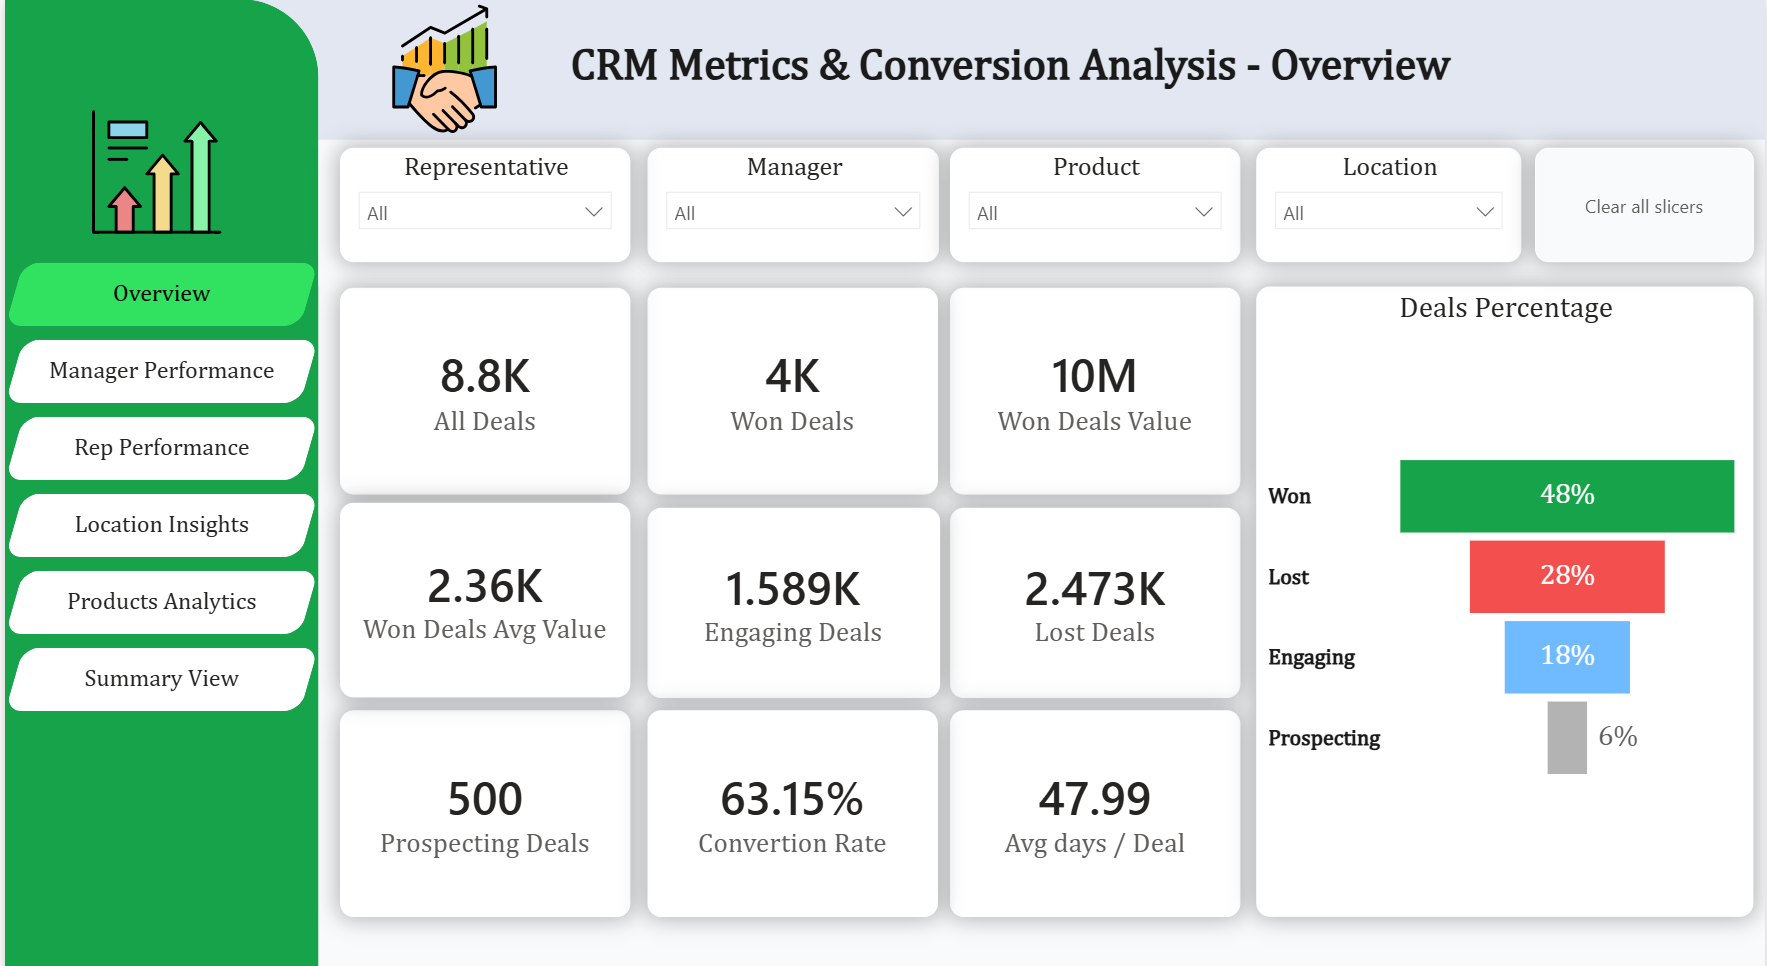

What the dashboard file says about the page in this screenshot:
{"tool":"powerbi","page":{"name":"Overview","canvas":[1280,720],"ordinal":0},"visuals":[{"type":"cardVisual","fields":{"Data":["Sum(sales_pipeline.close_value)"]},"box":[687.7,209.7,211.6,150.4],"z":0},{"type":"cardVisual","fields":{"Data":["Measures Table.Num Of Won Deals"]},"box":[467.6,209.7,211.6,150.4],"z":1000},{"type":"cardVisual","fields":{"Data":["Measures Table.Num Of Lost Deals"]},"box":[687.6,370.4,211.6,138.2],"z":2000},{"type":"cardVisual","fields":{"Data":["Measures Table.Num Of Engaging Deals"]},"box":[467.5,370.4,212.8,138.2],"z":3000},{"type":"cardVisual","fields":{"Data":["Measures Table.Num Of Prospecting Deals"]},"box":[243.8,517.5,211.6,150.4],"z":4000},{"type":"cardVisual","fields":{"Data":["Measures Table.All Deals"]},"box":[243.8,209.7,211.6,150.4],"z":5000},{"type":"cardVisual","fields":{"Data":["Measures Table.Won Deals Avg Value"]},"box":[243.7,366.7,211.6,141.8],"z":6000},{"type":"cardVisual","fields":{"Data":["Measures Table.Avg days taken in Deal"]},"box":[687.7,517.5,211.6,150.4],"z":7000},{"type":"cardVisual","fields":{"Data":["Measures Table.Covertion Rate"]},"box":[467.6,517.5,211.6,150.4],"z":8000},{"type":"funnel","title":"Deals Percentage ","fields":{"Y":["CountNonNull(sales_pipeline.deal_stage)"],"Category":["sales_pipeline.deal_stage"]},"box":[909.7,209.5,361.9,458.4],"z":9000},{"type":"shape","box":[0,0,1280,102.5],"z":10000},{"type":"shape","box":[0,0,228,720.2],"z":11000},{"type":"textbox","box":[406.6,26.5,672,63.9],"z":12000},{"type":"image","box":[228,3.6,183.4,94.1],"z":13000},{"type":"pageNavigator","box":[0,191.8,228,331.8],"z":14000},{"type":"image","box":[30.2,78.4,160.5,95.3],"z":15000},{"type":"slicer","title":"Manager","fields":{"Values":["sales_teams.manager"]},"box":[466.9,108.6,212.3,83.2],"z":16000},{"type":"slicer","title":"Product","fields":{"Values":["products.product"]},"box":[687.7,108.6,211.1,83.2],"z":17000},{"type":"slicer","title":"Sale Agent","fields":{"Values":["sales_teams.sales_agent"]},"box":[243.7,108.6,211.1,83.2],"z":18000},{"type":"slicer","title":"Location","fields":{"Values":["sales_teams.regional_office"]},"box":[909.7,108.6,193,83.2],"z":19000},{"type":"actionButton","box":[1112.3,108.6,159.3,83.2],"z":20000}]}

Visuals, with their boxes in screenshot pixels (x1, y1, x2, y2), scaled from the page's 1280x720 canvas onto the 1767x966 screenshot:
cardVisual - Sum(sales_pipeline.close_value): [949,281,1241,483]
cardVisual - Measures Table.Num Of Won Deals: [646,281,938,483]
cardVisual - Measures Table.Num Of Lost Deals: [949,497,1241,682]
cardVisual - Measures Table.Num Of Engaging Deals: [645,497,939,682]
cardVisual - Measures Table.Num Of Prospecting Deals: [337,694,629,896]
cardVisual - Measures Table.All Deals: [337,281,629,483]
cardVisual - Measures Table.Won Deals Avg Value: [336,492,629,682]
cardVisual - Measures Table.Avg days taken in Deal: [949,694,1241,896]
cardVisual - Measures Table.Covertion Rate: [646,694,938,896]
"Deals Percentage " funnel: [1256,281,1755,896]
shape: [0,0,1766,138]
shape: [0,0,315,965]
textbox: [561,36,1489,121]
image: [315,5,568,131]
pageNavigator: [0,257,315,702]
image: [42,105,263,233]
"Manager" slicer: [645,146,938,257]
"Product" slicer: [949,146,1241,257]
"Sale Agent" slicer: [336,146,628,257]
"Location" slicer: [1256,146,1522,257]
actionButton: [1535,146,1755,257]
